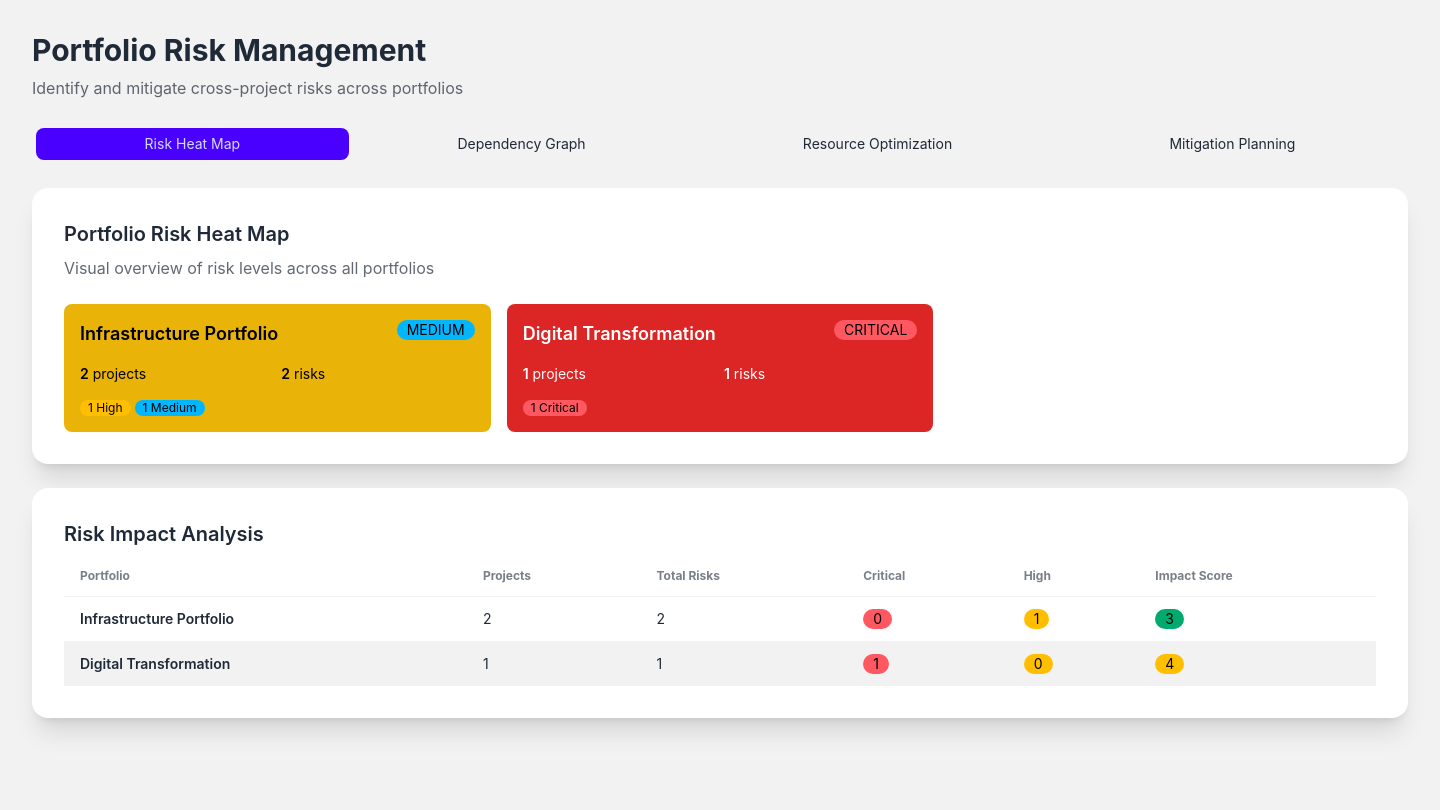
Scenario: PortfolioRiskManagement › switches to resource optimization tab
This screenshot has width=1440, height=810.
Click the button "Resource Optimization": (878,144) [694,128,1061,160]
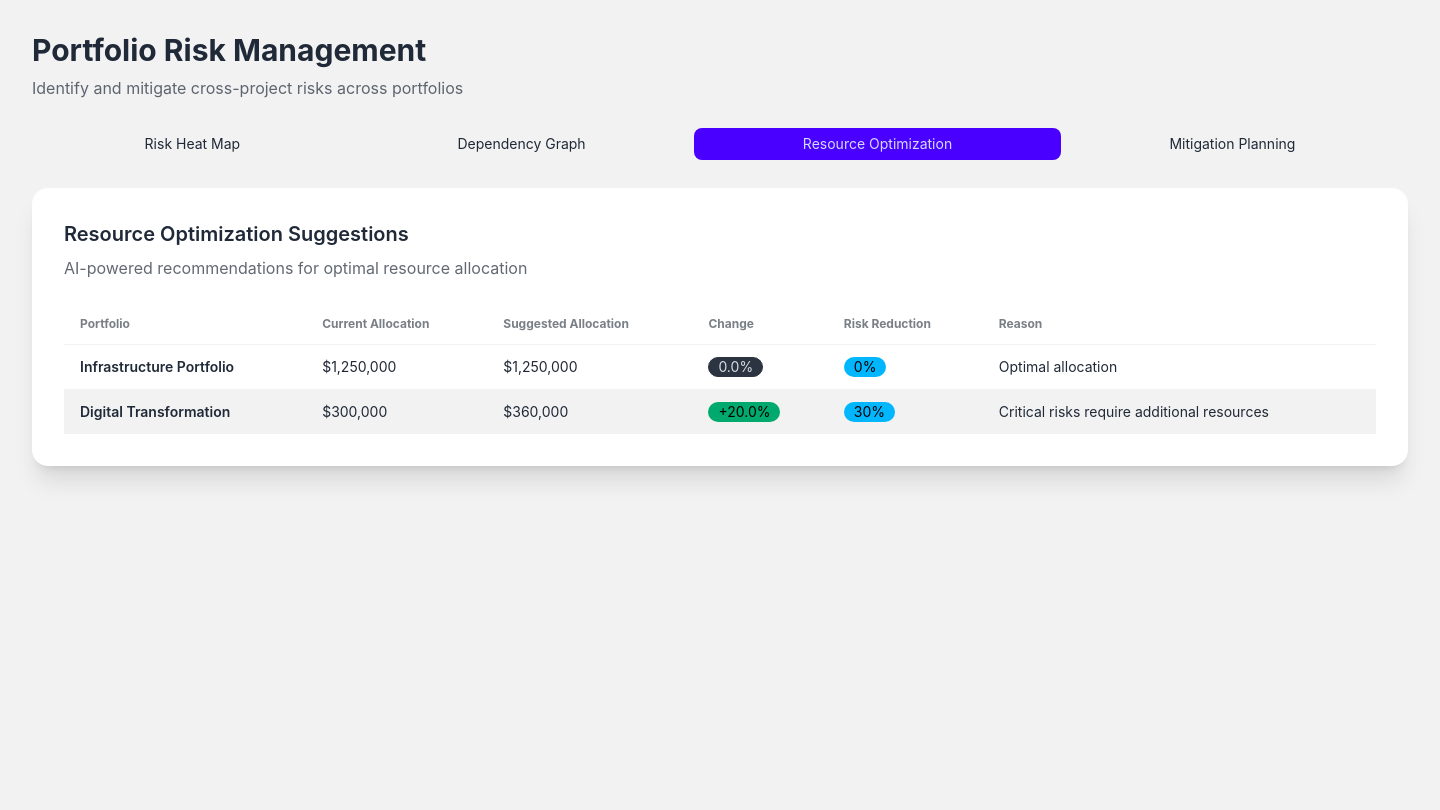
expect the heading "Resource Optimization Suggestions" is shown: met, box [64,222,409,246]
expect the column heading "Current Allocation" is shown: met, box [306,304,487,344]
expect the column heading "Suggested Allocation" is shown: met, box [487,304,692,344]
